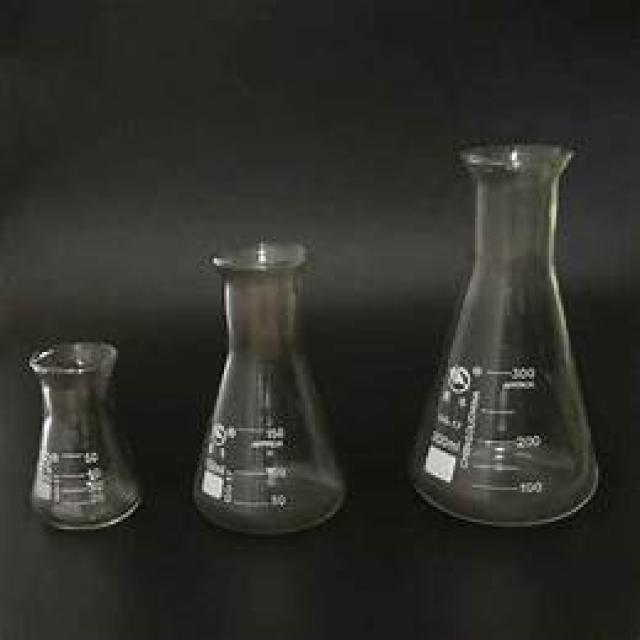Titrarion: (414, 134, 601, 535), (191, 238, 361, 534), (27, 328, 142, 538)
